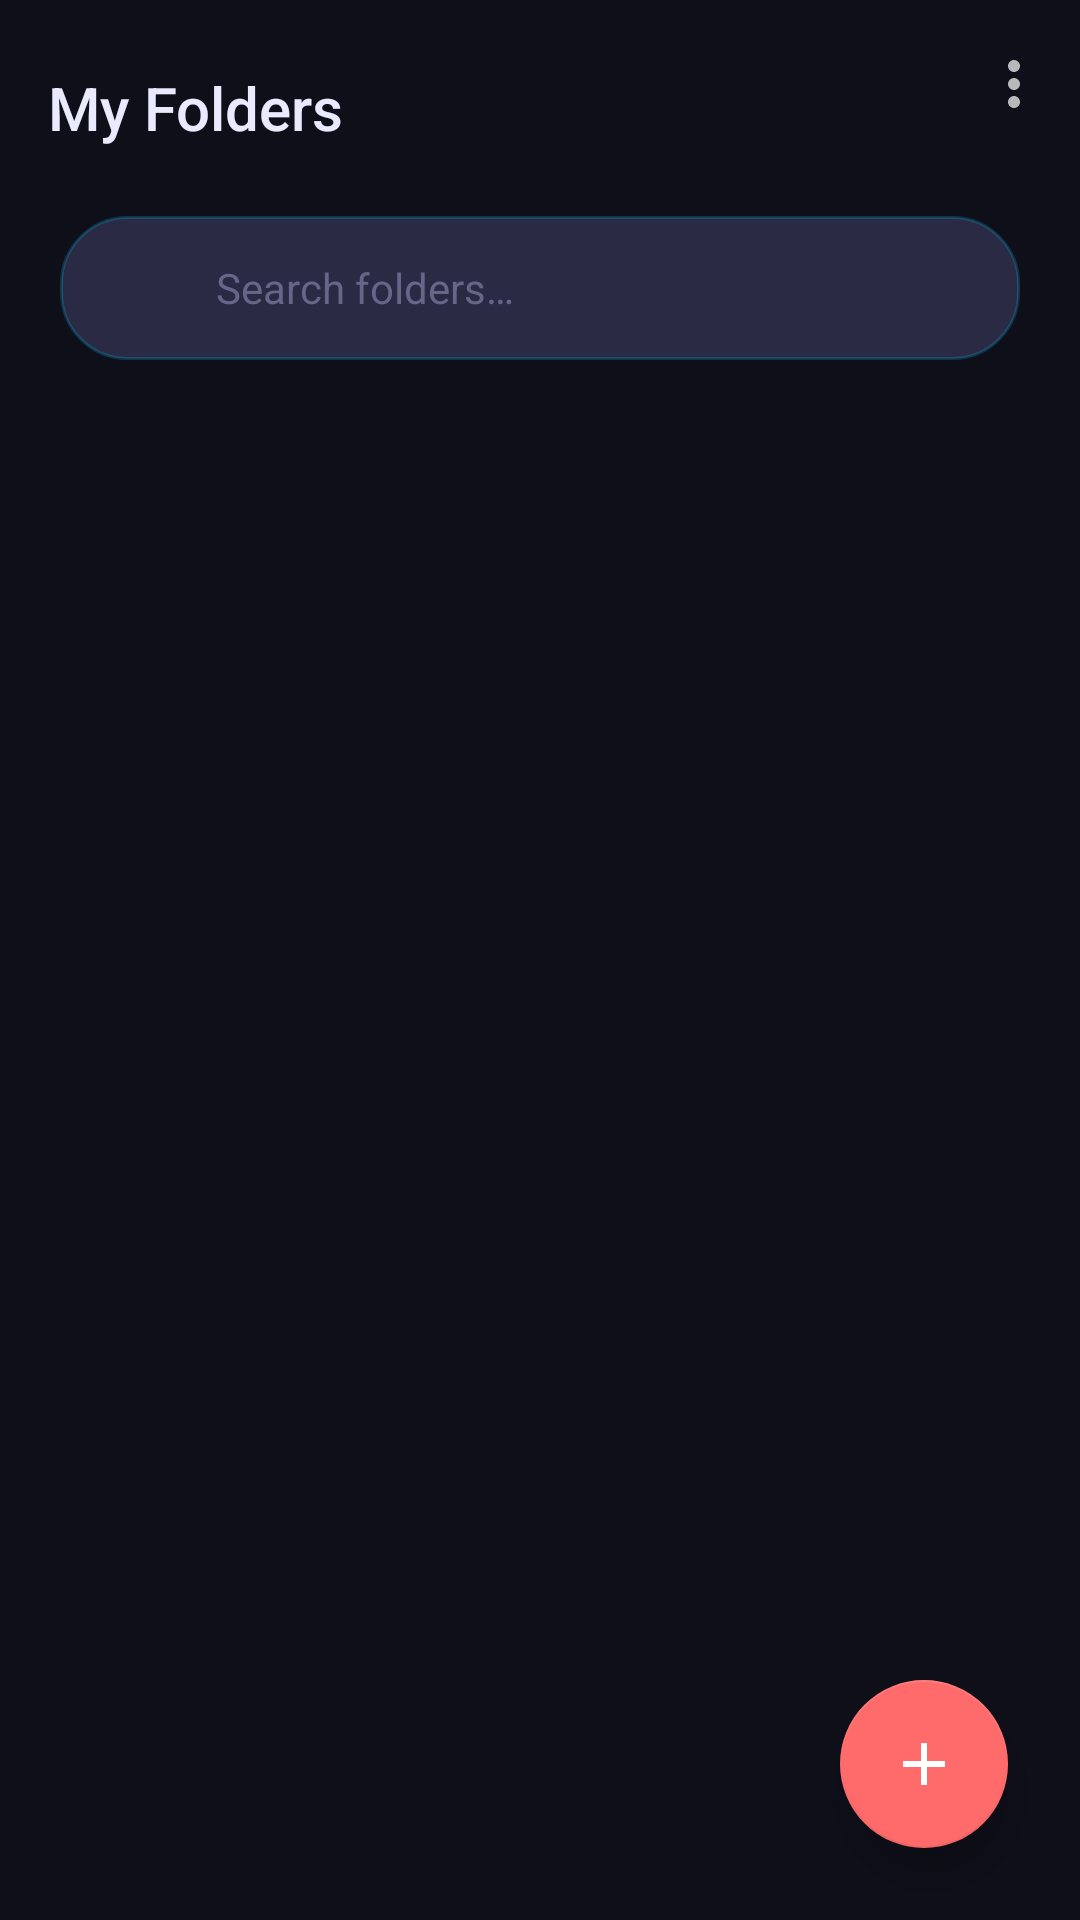

Icons on this 1080 × 1920 Android screen, each with the point to tap as (x=x, y=y):
Add Folder: (x=924, y=1764)
